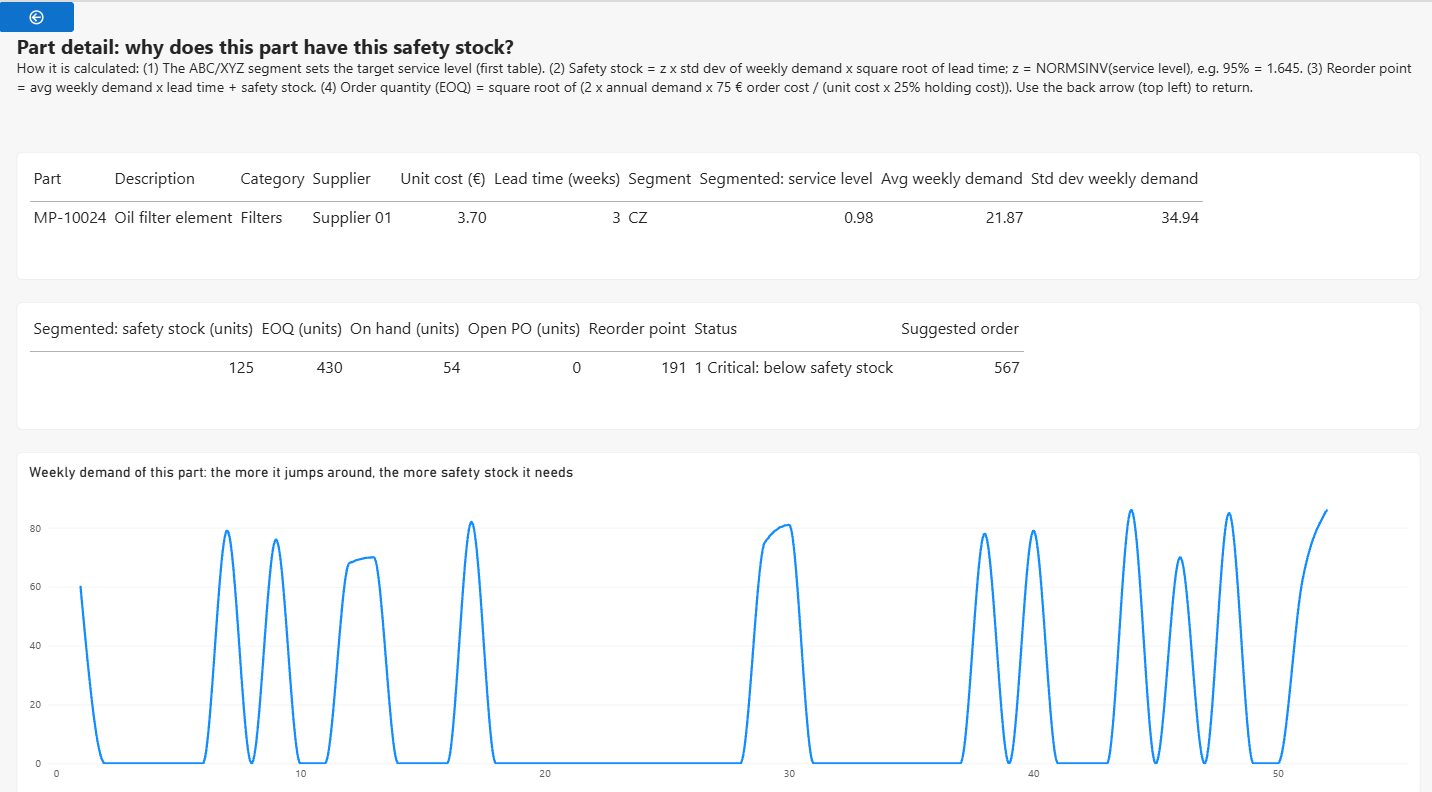

This screenshot's page, from the dashboard's own definition file:
{"tool":"powerbi","page":{"name":"Part detail","canvas":[1920,1080],"ordinal":2},"visuals":[{"type":"actionButton","box":[0,0,100,40],"z":0},{"type":"tableEx","fields":{"Values":["tbl_Analysis.Part","tbl_Analysis.Description","tbl_Analysis.Category","tbl_Analysis.Supplier","tbl_Analysis.Unit cost (€)","tbl_Analysis.Lead time (weeks)","tbl_Analysis.Segment","tbl_Analysis.Segmented: service level","tbl_Analysis.Avg weekly demand","tbl_Analysis.Std dev weekly demand"]},"box":[24,200,1872,170],"z":1000},{"type":"tableEx","fields":{"Values":["tbl_Analysis.Segmented: safety stock (units)","tbl_Analysis.EOQ (units)","tbl_Analysis.On hand (units)","tbl_Analysis.Open PO (units)","tbl_Analysis.Reorder point (units, segmented)","tbl_Analysis.Status","tbl_Analysis.Suggested order (units)"]},"box":[24,400,1872,170],"z":2000},{"type":"lineChart","title":"Weekly demand of this part: the more it jumps around, the more safety stock it needs","fields":{"Category":["tbl_Demand.Week"],"Y":["Sum(tbl_Demand.Units)"]},"box":[24,600,1872,460],"z":3000},{"type":"textbox","box":[24,40,1872,150],"z":4000}]}

Visuals, with their boxes on the page's 1920x1080 design canvas (x1, y1, x2, y2). These are canvas units, not pixel positions in the 1432x792 screenshot, which may show the page scaled, cropped or inside an application window:
actionButton: box=[0, 0, 100, 40]
tableEx - tbl_Analysis.Part x tbl_Analysis.Description: box=[24, 200, 1896, 370]
tableEx - tbl_Analysis.Segmented: safety stock (units) x tbl_Analysis.EOQ (units): box=[24, 400, 1896, 570]
"Weekly demand of this part: the more it jumps around, the more safety stock it needs" lineChart: box=[24, 600, 1896, 1060]
textbox: box=[24, 40, 1896, 190]
